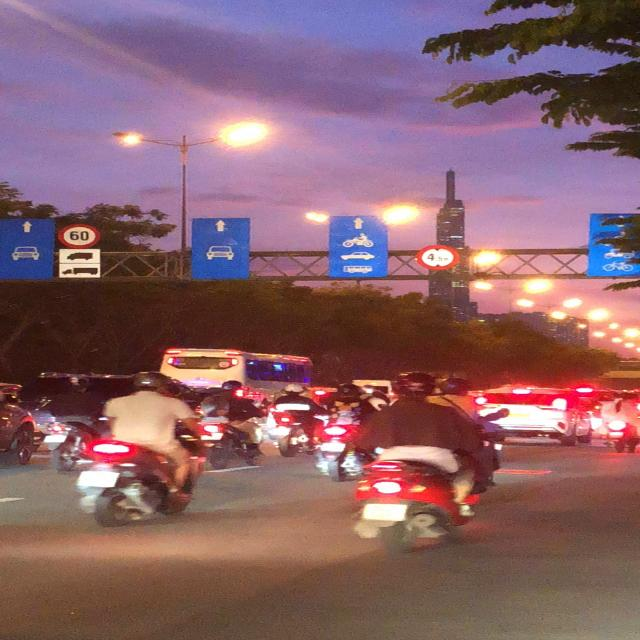Bien bao han che chieu cao: (412, 244, 461, 270)
Bien bao toc do toi da cho phep: (54, 222, 102, 248)
